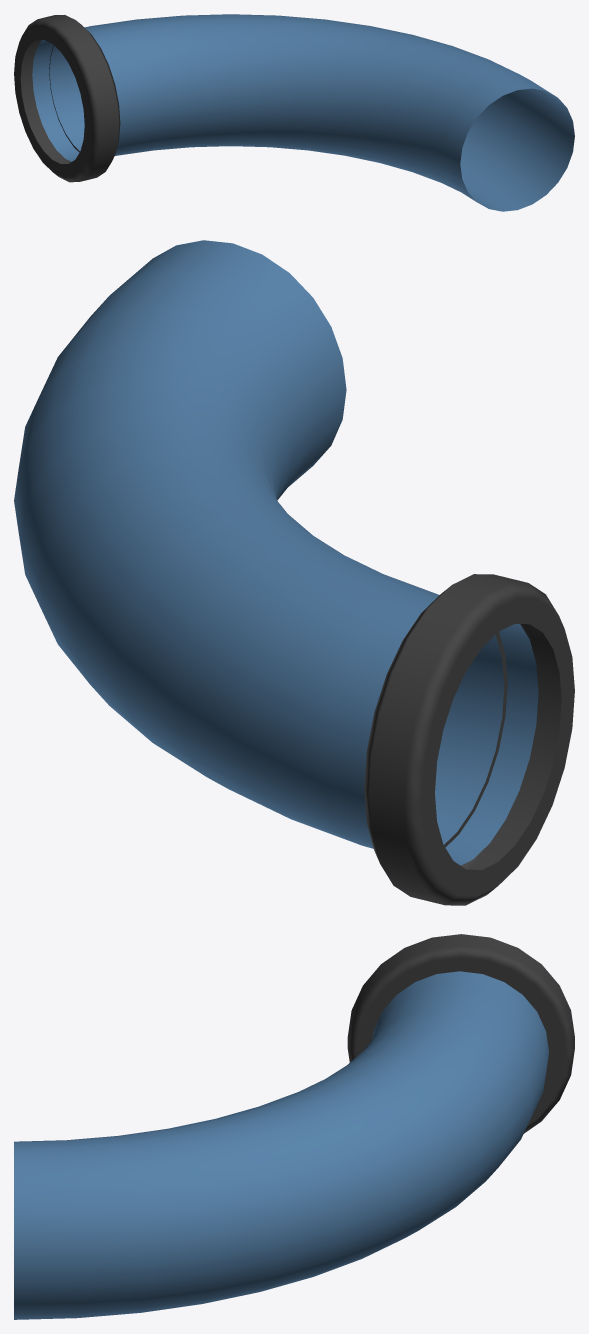
File: Pipe_Bend_1m.fbx
3 renders of one model, top to bottom at view 1: azimuth 30°, elevation 25°; view 2: azimuth 150°, elevation 25°; view 3: azimuth 270°, elevation 25°, orthographic. The views are drawn at different scales.
Parts seen in each view (by area): view 1: Pipe_Bend_1m; view 2: Pipe_Bend_1m; view 3: Pipe_Bend_1m.
Boxes of the visible parts, box(x1,y1,x2,y2) form: Pipe_Bend_1m: box(14, 14, 574, 211); Pipe_Bend_1m: box(14, 240, 574, 905); Pipe_Bend_1m: box(14, 934, 574, 1319).
Bounding box in the file's own units: 124 × 50.8 × 125.
